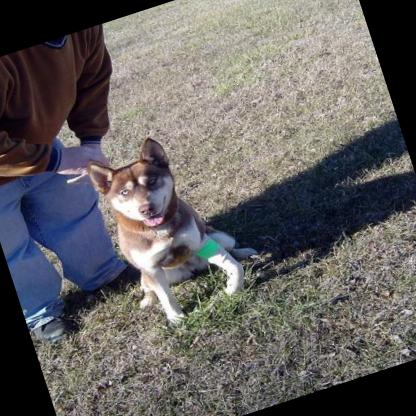Eskimo_dog: (80, 114, 270, 336)
